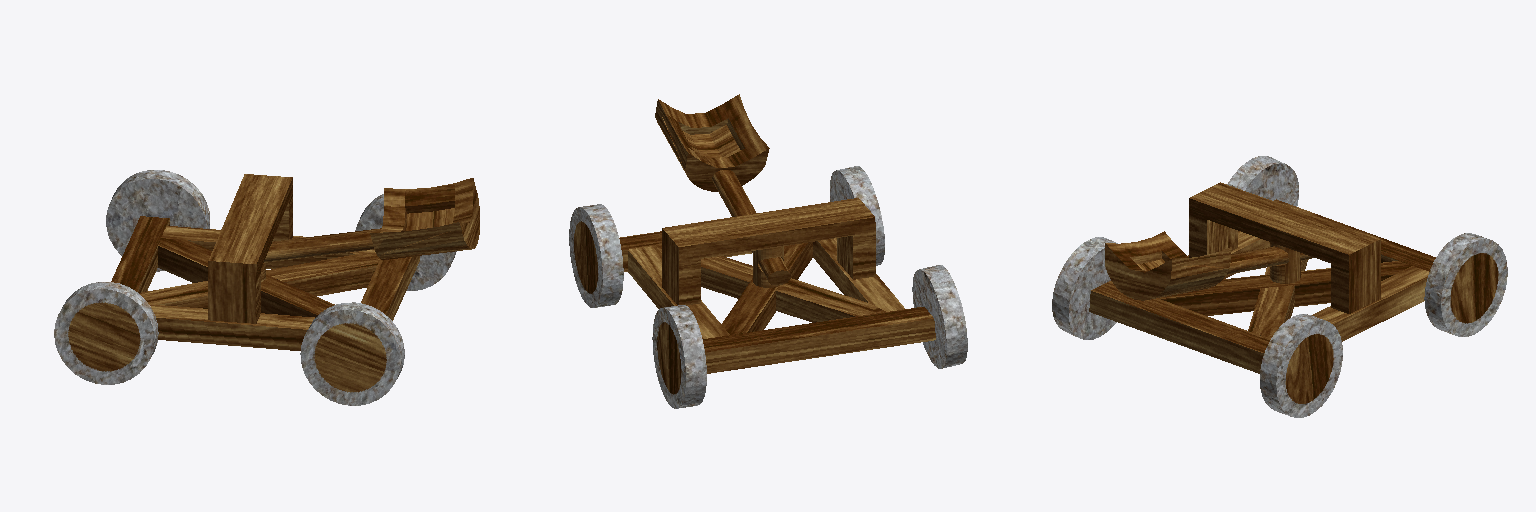
The picture shows the model from 3 angles: view 1: azimuth 30°, elevation 25°; view 2: azimuth 150°, elevation 25°; view 3: azimuth 270°, elevation 25°; orthographic projection.
Visible parts, largest first — view 1: Katapult.001_Cube.001; view 2: Katapult.001_Cube.001; view 3: Katapult.001_Cube.001.
Part boxes in pixels (x1,y1,x2,y2): Katapult.001_Cube.001: (54,170,479,405); Katapult.001_Cube.001: (569,94,967,408); Katapult.001_Cube.001: (1052,156,1507,417).
Bounding box in the file's own units: 3.62 × 1.34 × 3.56.
Materials: 1 (1 with a texture image).